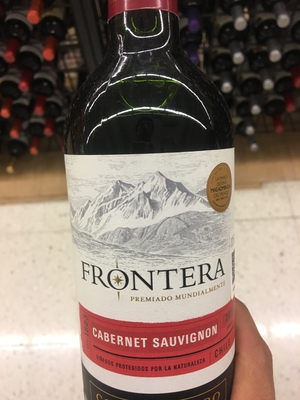frontera cabernet sauvignon: (55, 3, 248, 400)
